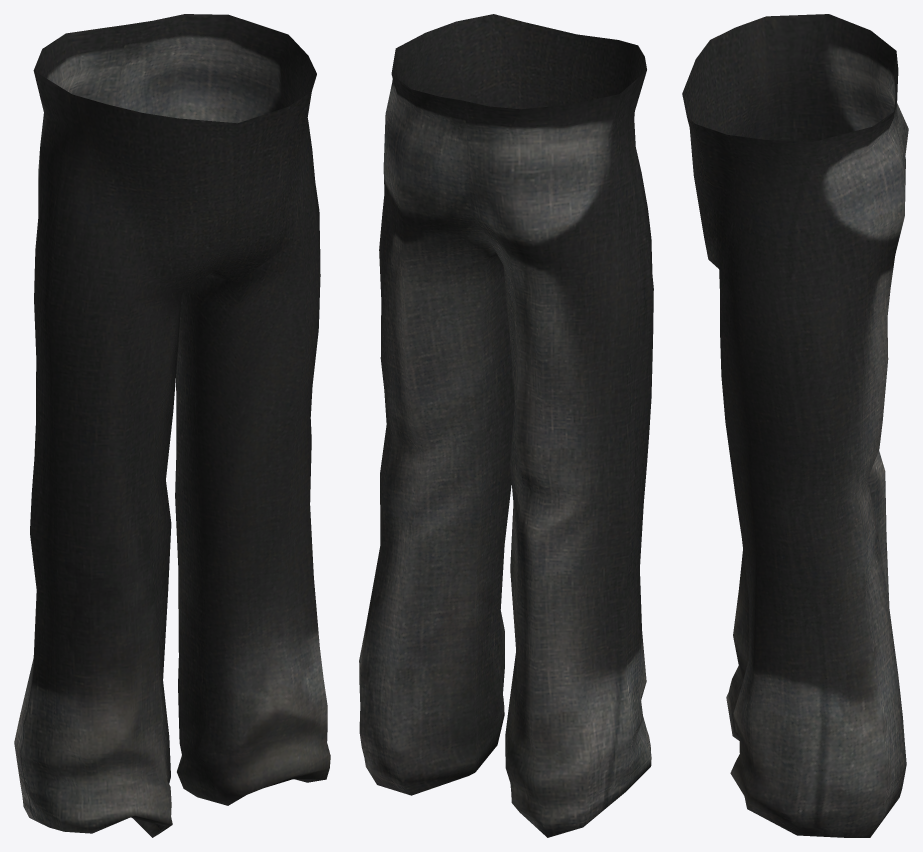
File: Uth_Pants_MshShape.obj
The picture shows the model from 3 angles, left to right: view 1: azimuth 30°, elevation 25°; view 2: azimuth 150°, elevation 25°; view 3: azimuth 270°, elevation 25°; orthographic projection. The views are drawn at different scales.
Parts seen in each view (by area): view 1: Uth_Pants_Msh Uth_Body_Grp SkinnedMesh Mesh CharacterRoot; view 2: Uth_Pants_Msh Uth_Body_Grp SkinnedMesh Mesh CharacterRoot; view 3: Uth_Pants_Msh Uth_Body_Grp SkinnedMesh Mesh CharacterRoot.
Part boxes in pixels (x1,y1,x2,y2): Uth_Pants_Msh Uth_Body_Grp SkinnedMesh Mesh CharacterRoot: (14, 14, 330, 837); Uth_Pants_Msh Uth_Body_Grp SkinnedMesh Mesh CharacterRoot: (359, 14, 653, 837); Uth_Pants_Msh Uth_Body_Grp SkinnedMesh Mesh CharacterRoot: (682, 14, 908, 837).
Bounding box in the file's own units: 43.22 × 113 × 32.38.
Materials: 1 (1 with a texture image).
